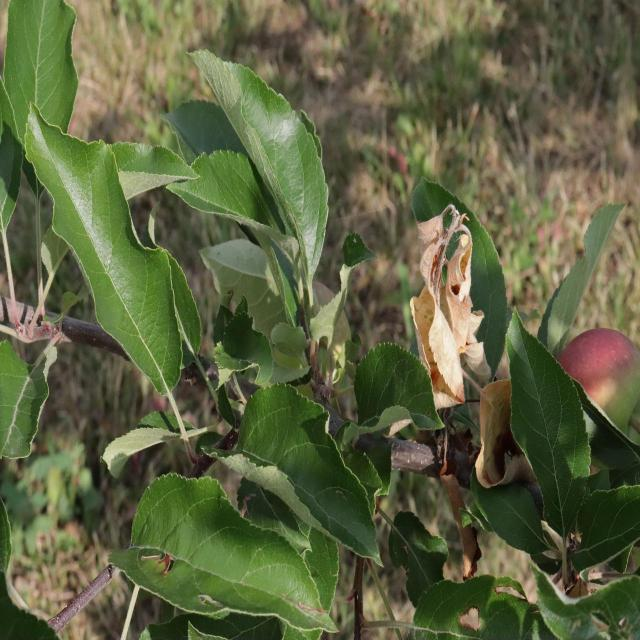-FireBlight-: (406, 213, 496, 400)
